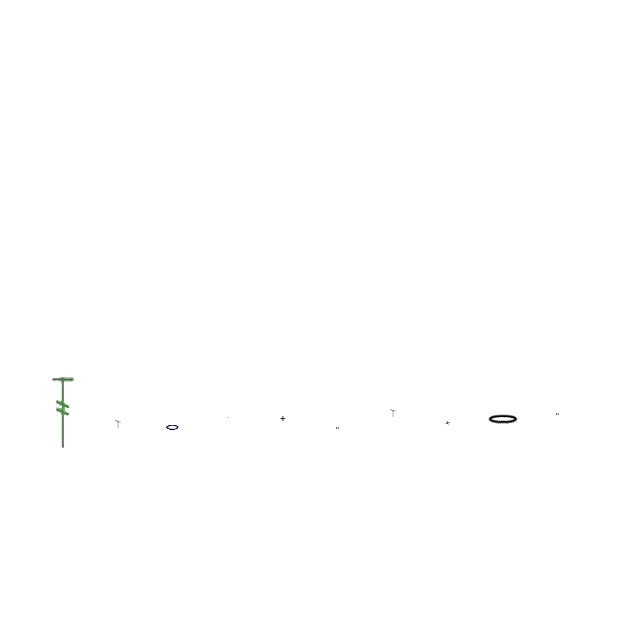chain: (486, 414, 520, 426), (166, 422, 180, 432), (336, 427, 340, 429), (556, 413, 560, 415), (227, 418, 229, 418)
double: (280, 416, 286, 422)
enseble_chain: (115, 420, 121, 428), (390, 409, 396, 417), (446, 421, 450, 425)
fan: (50, 376, 76, 450)
